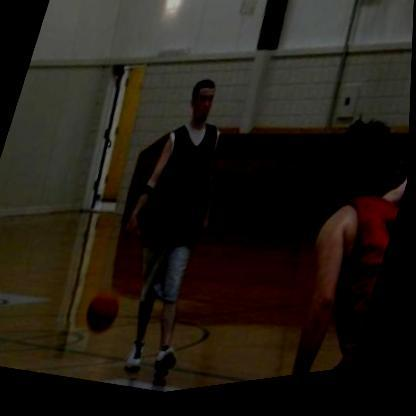basketball: (82, 286, 129, 340)
